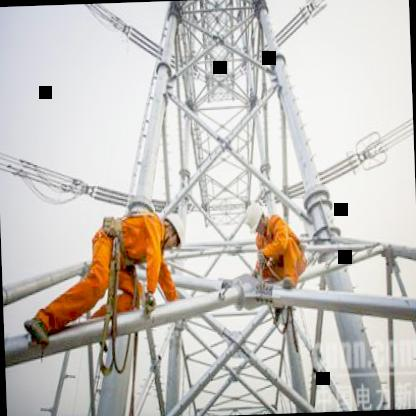helmet: (156, 212, 186, 253), (242, 202, 270, 235)
